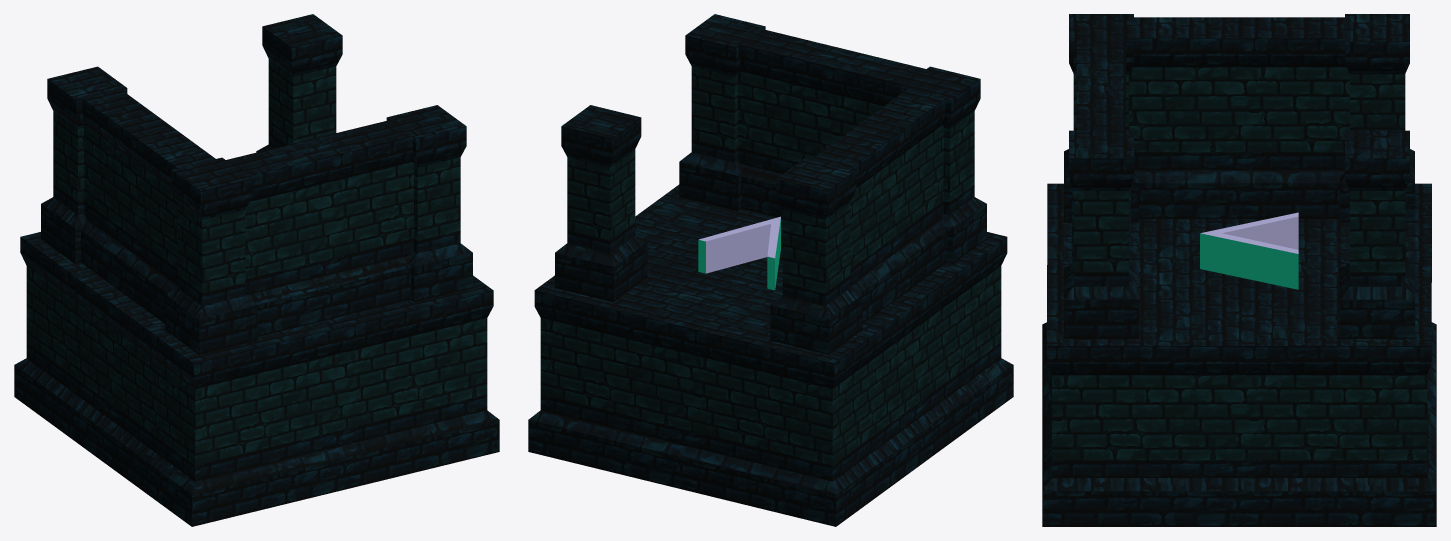
The model's file is debug-corner-left.glb.
3 renders of one model, left to right at view 1: azimuth 30°, elevation 25°; view 2: azimuth 150°, elevation 25°; view 3: azimuth 270°, elevation 25°, orthographic. The views are drawn at different scales.
Parts seen in each view (by area): view 1: mergedBlocks(Clone); view 2: mergedBlocks(Clone); view 3: mergedBlocks(Clone).
Boxes of the visible parts, x1,y1,x2,y2 form: mergedBlocks(Clone): [14, 14, 499, 526]; mergedBlocks(Clone): [528, 14, 1013, 526]; mergedBlocks(Clone): [1042, 14, 1436, 526].
Bounding box in the file's own units: 2 × 2 × 2.
4 materials, 2 textured.
